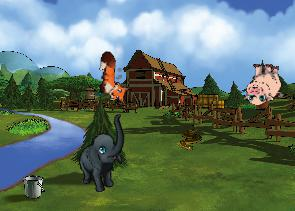elephant: (67, 113, 141, 196)
fox: (96, 51, 134, 105)
pig: (243, 62, 283, 105)
